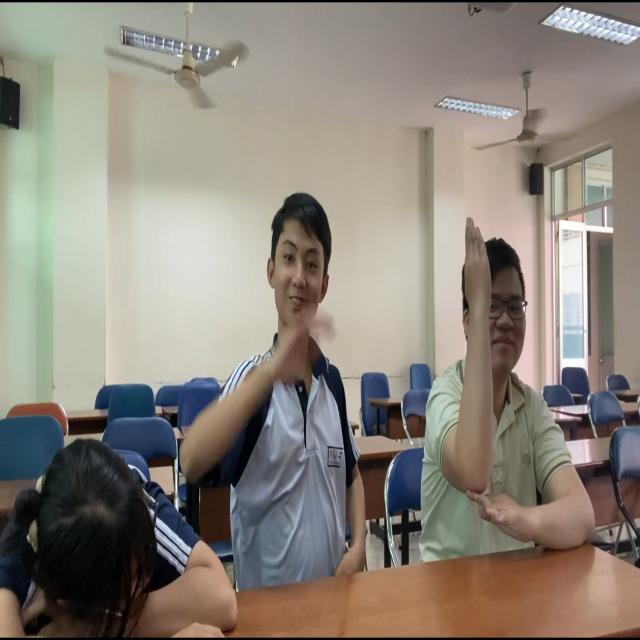raise_hand: (423, 216, 560, 537)
sleep: (1, 428, 246, 640)
